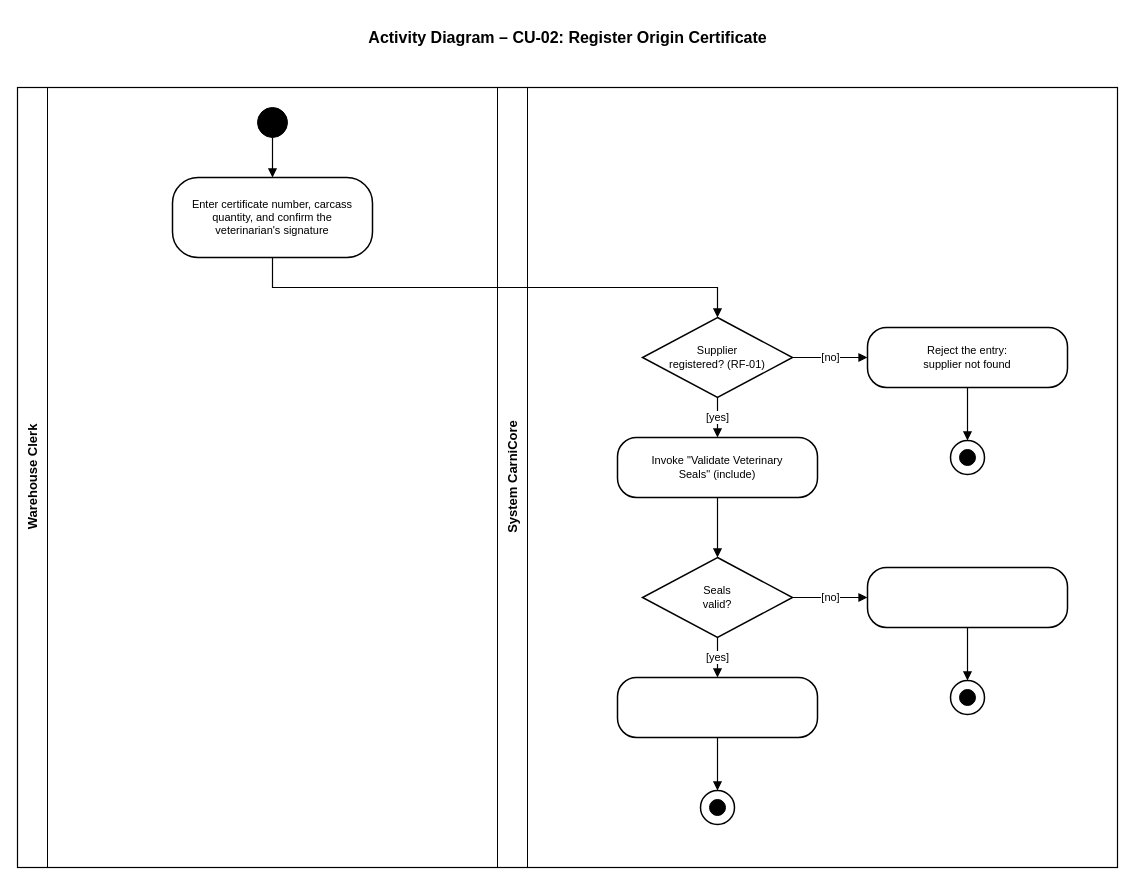
This 1136x886 diagram has some shape labels left out. The centre of each missing label's shape, as x and y in pixels:
"Reject the entry: invalid veterinary seals" belongs at (x=967, y=597).
"Store the origin certificate linked to the supplier" belongs at (x=717, y=707).
